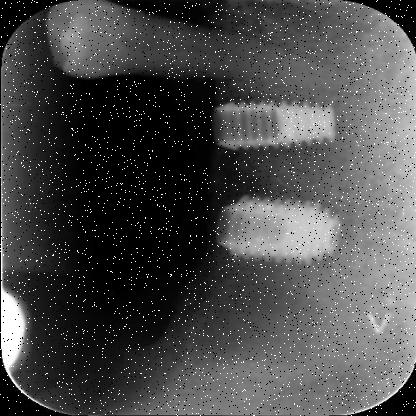Bicon: (216, 197, 343, 267), (206, 97, 341, 154)
